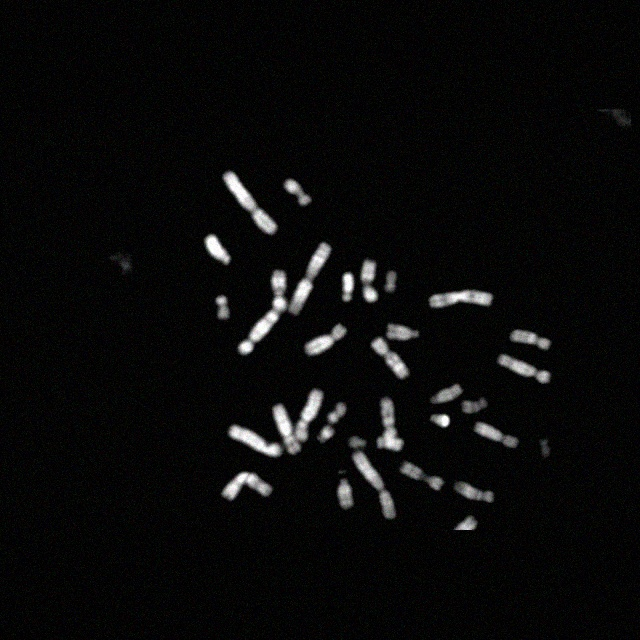chromosome: (223, 171, 277, 235), (352, 451, 396, 519), (290, 242, 330, 314), (227, 424, 281, 458), (238, 311, 280, 354), (371, 336, 409, 379), (498, 354, 550, 384), (295, 388, 323, 442), (272, 404, 302, 454), (222, 472, 272, 501), (398, 461, 444, 491), (305, 324, 347, 356), (430, 290, 494, 310), (474, 422, 518, 448), (510, 328, 550, 349), (380, 398, 396, 448), (454, 482, 494, 502), (204, 234, 230, 264), (284, 178, 310, 206), (361, 260, 377, 304), (271, 270, 287, 312), (430, 384, 462, 404), (387, 323, 419, 341), (336, 478, 354, 510), (328, 401, 348, 423), (462, 398, 488, 414), (341, 272, 353, 302), (316, 425, 334, 443), (377, 438, 403, 450), (430, 414, 450, 428), (216, 296, 228, 318), (348, 436, 367, 449), (385, 272, 397, 292), (540, 438, 550, 458)
